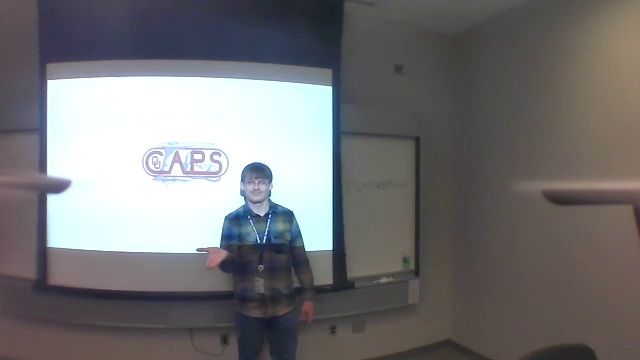land: (187, 239, 234, 271)
